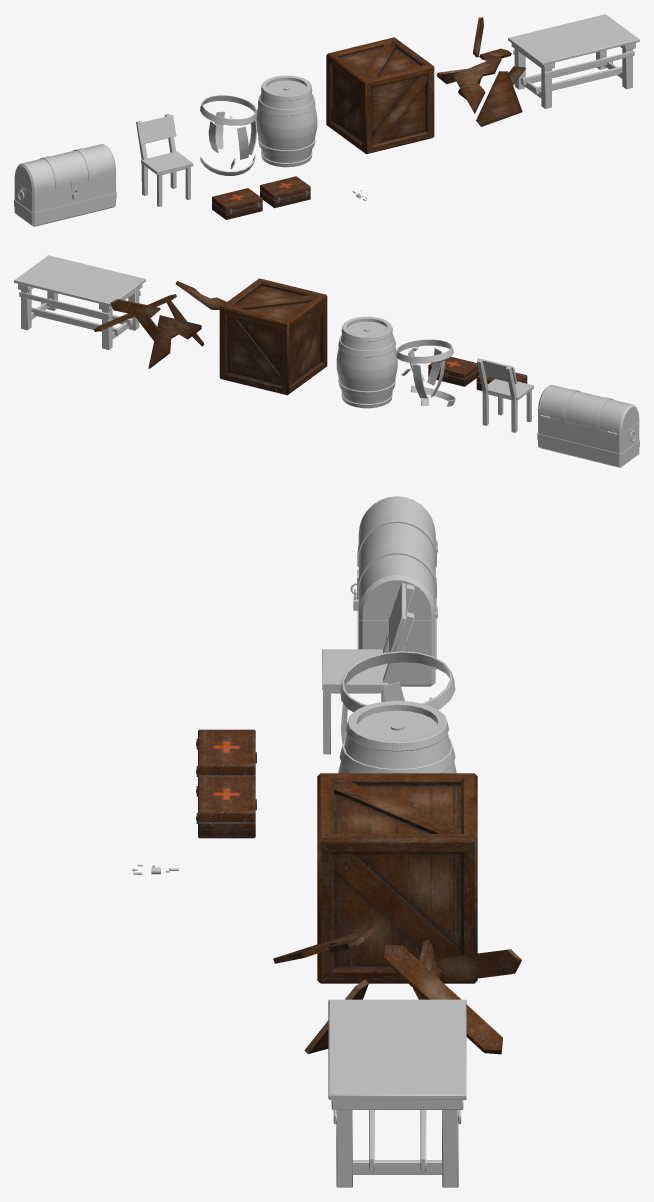
The model's file is dungeonExtras.fbx.
3 views of the same model, one above another, from view 1: azimuth 30°, elevation 25°; view 2: azimuth 150°, elevation 25°; view 3: azimuth 270°, elevation 25° (orthographic). The views are drawn at different scales.
Parts seen in each view (by area): view 1: crate_1, table, barrel, lower, upper, chair, piece_2_2, healthbox, ammobox, piece_1, piece1, piece2_1; view 2: crate_1, table, barrel, lower, upper, chair, piece_4, ammobox, piece1, piece_3, piece_1, piece; view 3: crate_1, table, upper, barrel, chair, ammobox, lower, piece, healthbox, piece_3, piece1, piece_1.
Boxes of the visible parts, left/top/right/bottom form: crate_1: left=326, top=37, right=434, bottom=154; table: left=508, top=14, right=639, bottom=108; barrel: left=256, top=75, right=317, bottom=167; lower: left=14, top=173, right=116, bottom=226; upper: left=14, top=144, right=115, bottom=193; chair: left=136, top=114, right=193, bottom=206; piece_2_2: left=476, top=71, right=522, bottom=126; healthbox: left=212, top=188, right=262, bottom=219; ammobox: left=260, top=176, right=310, bottom=208; piece_1: left=453, top=56, right=501, bottom=113; piece1: left=200, top=95, right=257, bottom=125; piece2_1: left=237, top=126, right=248, bottom=159; crate_1: left=219, top=278, right=327, bottom=395; table: left=14, top=255, right=145, bottom=349; barrel: left=336, top=316, right=397, bottom=408; lower: left=537, top=414, right=639, bottom=467; upper: left=538, top=385, right=639, bottom=434; chair: left=477, top=358, right=533, bottom=432; piece_4: left=148, top=315, right=201, bottom=368; ammobox: left=428, top=356, right=479, bottom=386; piece1: left=396, top=339, right=453, bottom=363; piece_3: left=110, top=299, right=160, bottom=317; piece_1: left=175, top=281, right=226, bottom=309; piece: left=94, top=294, right=176, bottom=331; crate_1: left=317, top=773, right=477, bottom=983; table: left=328, top=999, right=466, bottom=1187; upper: left=350, top=496, right=436, bottom=620; barrel: left=338, top=700, right=456, bottom=773; chair: left=322, top=583, right=414, bottom=754; ammobox: left=196, top=776, right=256, bottom=838; lower: left=357, top=541, right=437, bottom=686; piece: left=384, top=944, right=502, bottom=1054; healthbox: left=196, top=729, right=256, bottom=777; piece_3: left=435, top=949, right=521, bottom=982; piece1: left=340, top=651, right=455, bottom=712; piece_1: left=273, top=926, right=375, bottom=963.
Size of the model in its own units: 1251 by 165 by 351.
